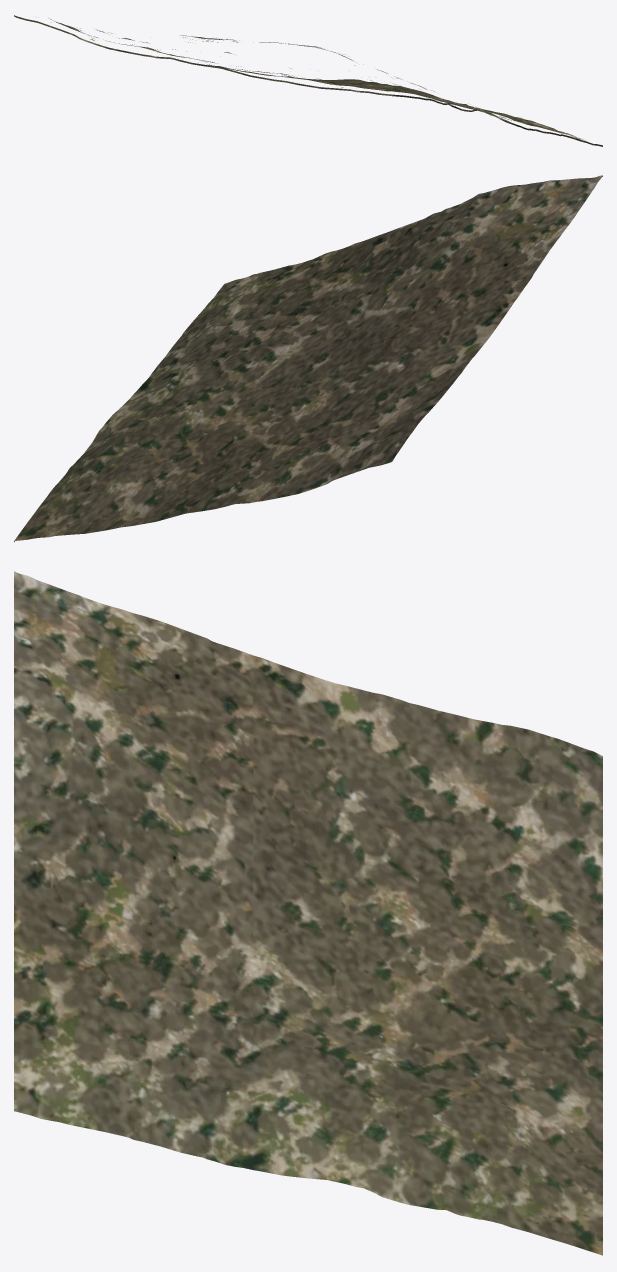
3 renders of one model, top to bottom at view 1: azimuth 30°, elevation 25°; view 2: azimuth 150°, elevation 25°; view 3: azimuth 270°, elevation 25°, orthographic. The views are drawn at different scales.
Bounding box in the file's own units: 250 × 193 × 241.
1 material, 1 textured.
